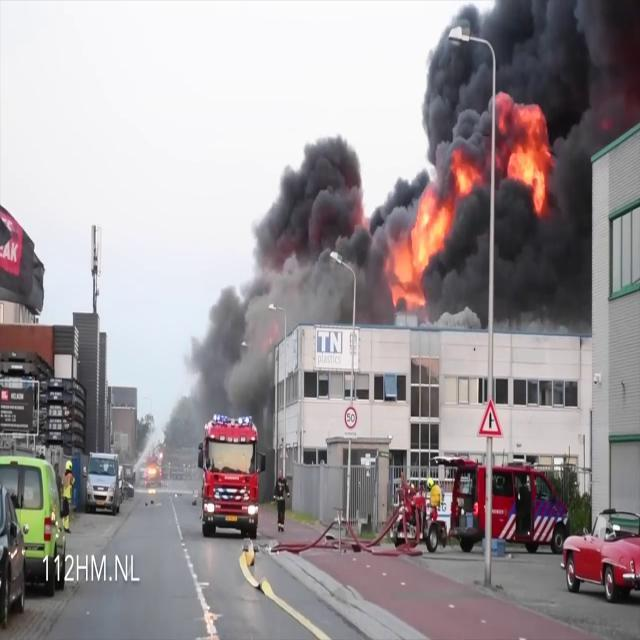Fire: (397, 172, 452, 284), (504, 105, 556, 214)
Smoke: (389, 0, 640, 337), (190, 120, 388, 435)
